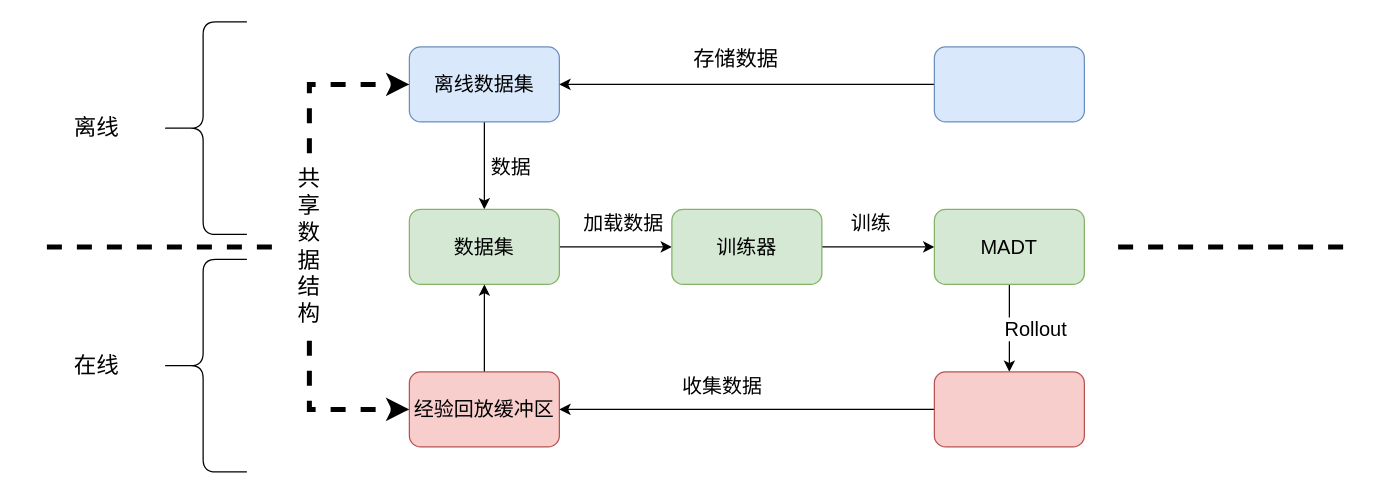
Some shapes in this 1379 by 494 pixel diagram are drawn without their labels. The centre of each missing label's shape, as x and y in pixels:
在线环境: [1008,409]
最优策略/演示: [1008,84]
